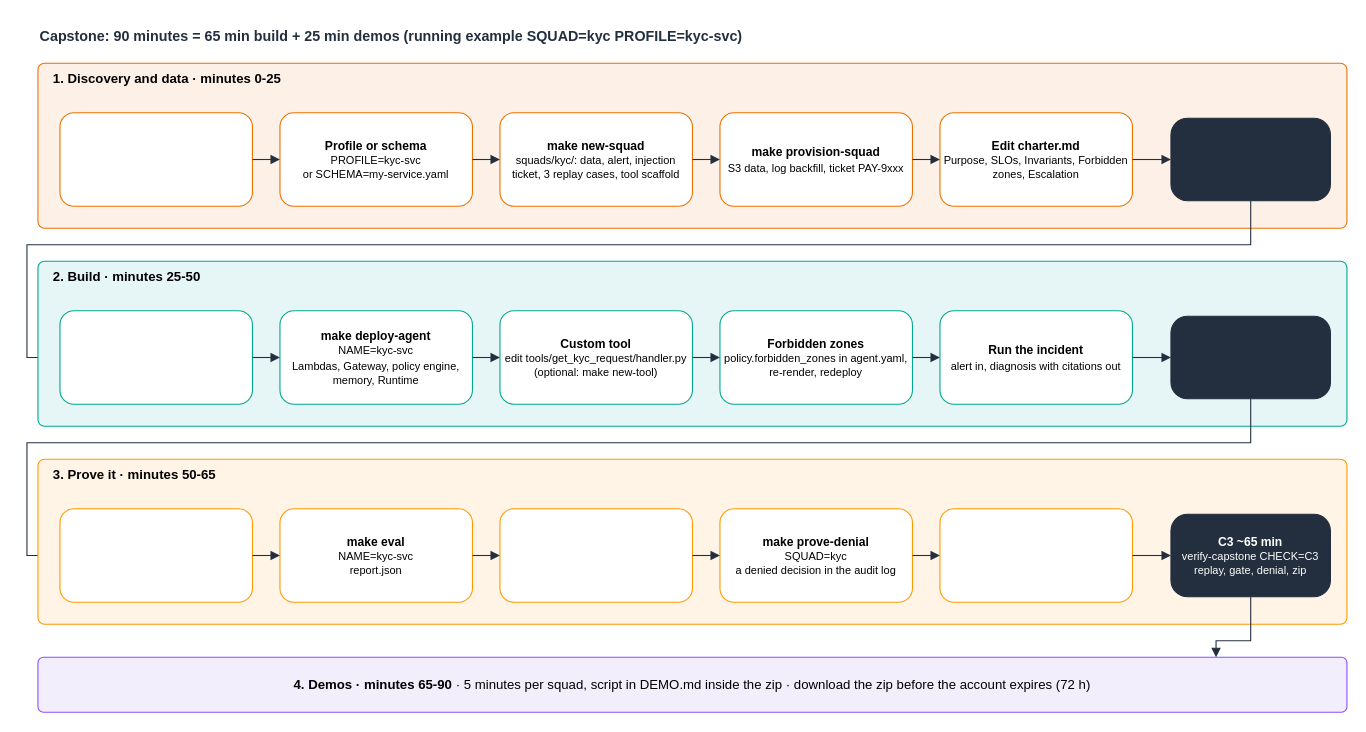
Some shapes in this 1366 by 732 pixel diagram are drawn without their labels. Each missing label, with the centre of its shape:
C1 ~25 min verify-capstone CHECK=C1 manifest, charter, data, alert: [1250,159]
C2 ~50 min verify-capstone CHECK=C2 READY, tool listed, root-cause marker: [1250,357]
Discovery (10 min) Claude Code asks the 7 questions; service sheet: [155,159]
make export SQUAD=kyc exports/kyc-agent-skeleton.zip: [1035,555]
make gate NAME=kyc-svc RCA, trajectory, unsafe, PII: [595,555]
make new-agent FROM=squads/kyc/agent.yaml prompt, targets, Cedar, memory, gates: [155,357]
Replay cases 3 generated + at least 1 of your own in squads/kyc/replay/: [155,555]
